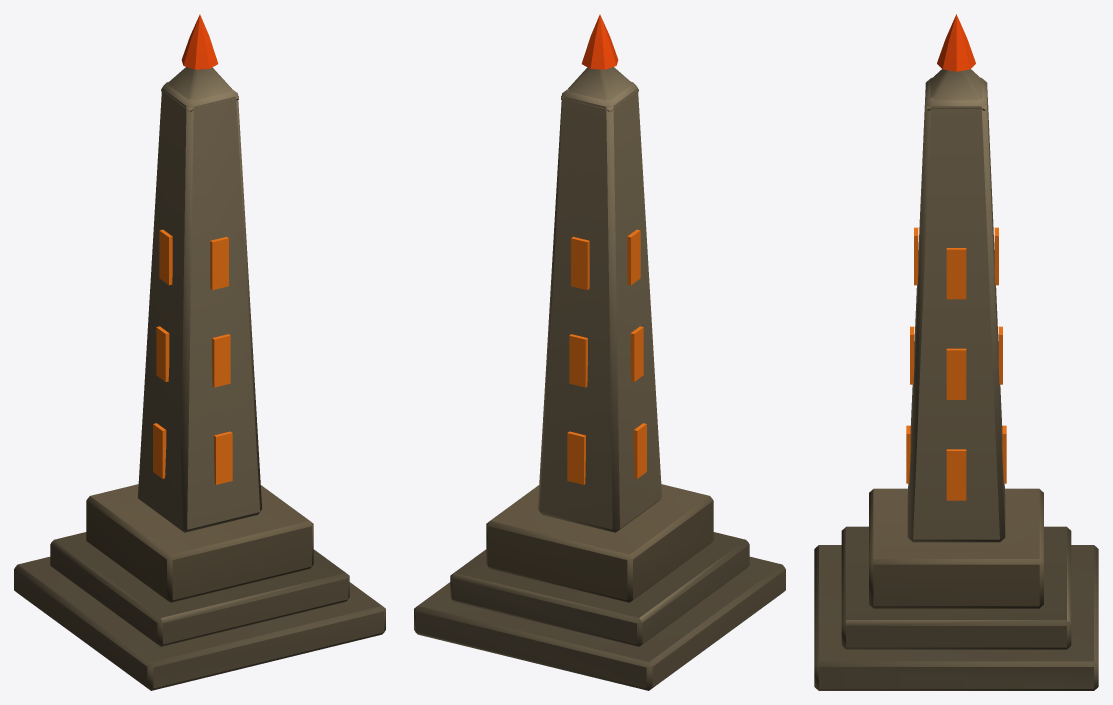
File: Obelisco4.fbx
The picture shows the model from 3 angles, left to right: view 1: azimuth 30°, elevation 25°; view 2: azimuth 150°, elevation 25°; view 3: azimuth 270°, elevation 25°; orthographic projection. The views are drawn at different scales.
Parts seen in each view (by area): view 1: Obelisco4; view 2: Obelisco4; view 3: Obelisco4.
Boxes of the visible parts, <box> form: Obelisco4: <box>14,14,385,690</box>; Obelisco4: <box>414,14,785,690</box>; Obelisco4: <box>814,14,1098,690</box>.
Bounding box in the file's own units: 2.6 × 6.25 × 2.6.
